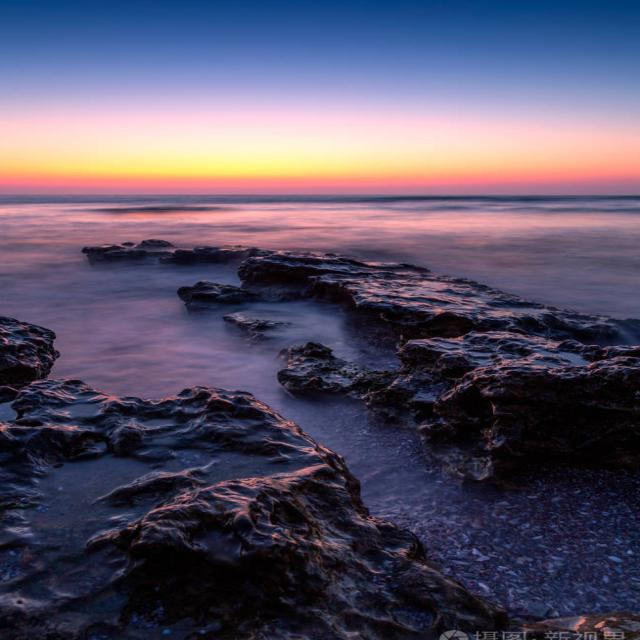reef: (57, 391, 440, 565), (118, 206, 463, 344)
